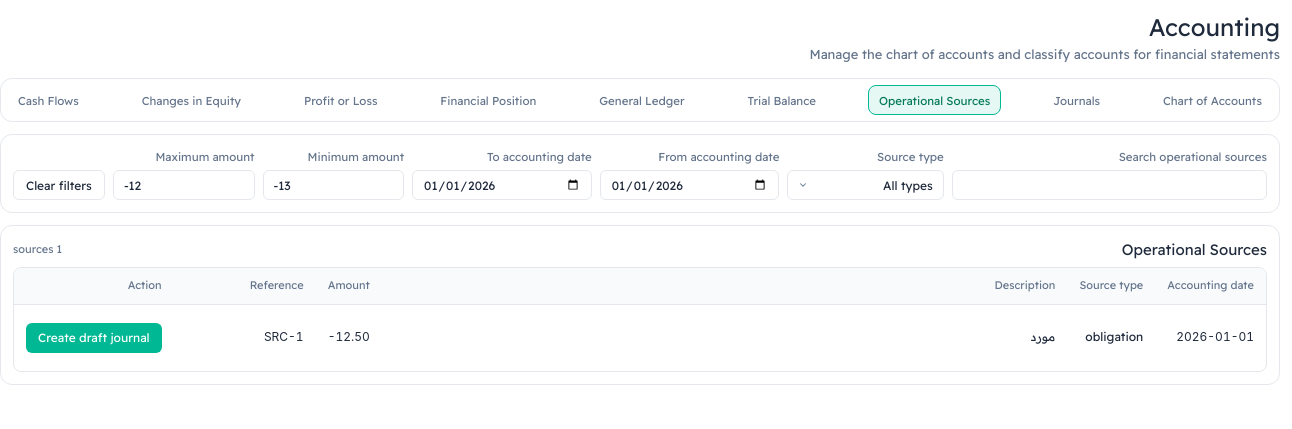
Test: Accounting operational discovery › filters sources by text, derived type, inclusive dates, and signed amount bounds
Expected: the text "مورد" is shown, [382, 304, 1067, 371]
Expected: the text "Settlement" is not shown
Step 1. Select "document_settlement" in the dropdown labelled "Source type" → point(866, 185), box [787, 170, 944, 200]
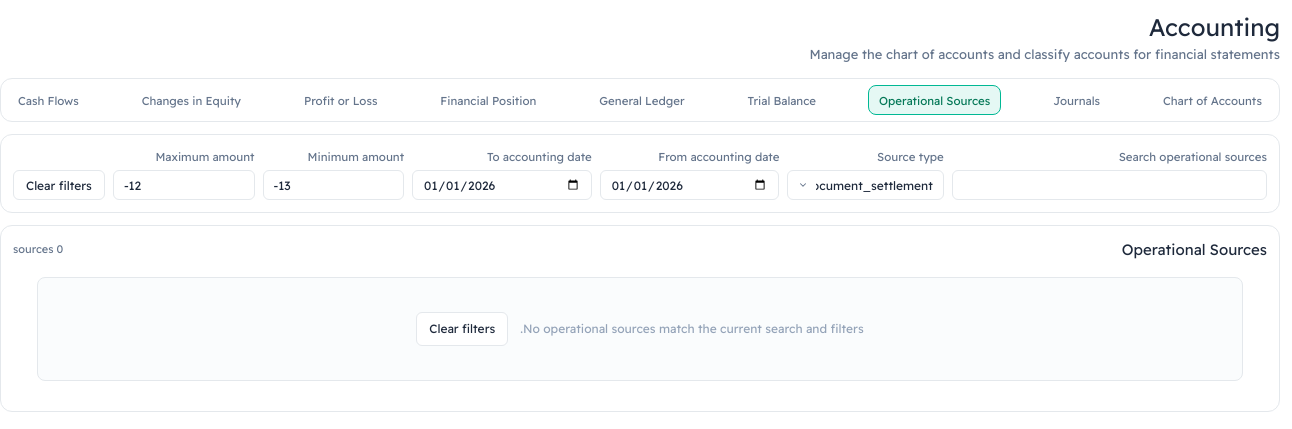
Now the text "0 sources" is shown, box [13, 241, 63, 258]
